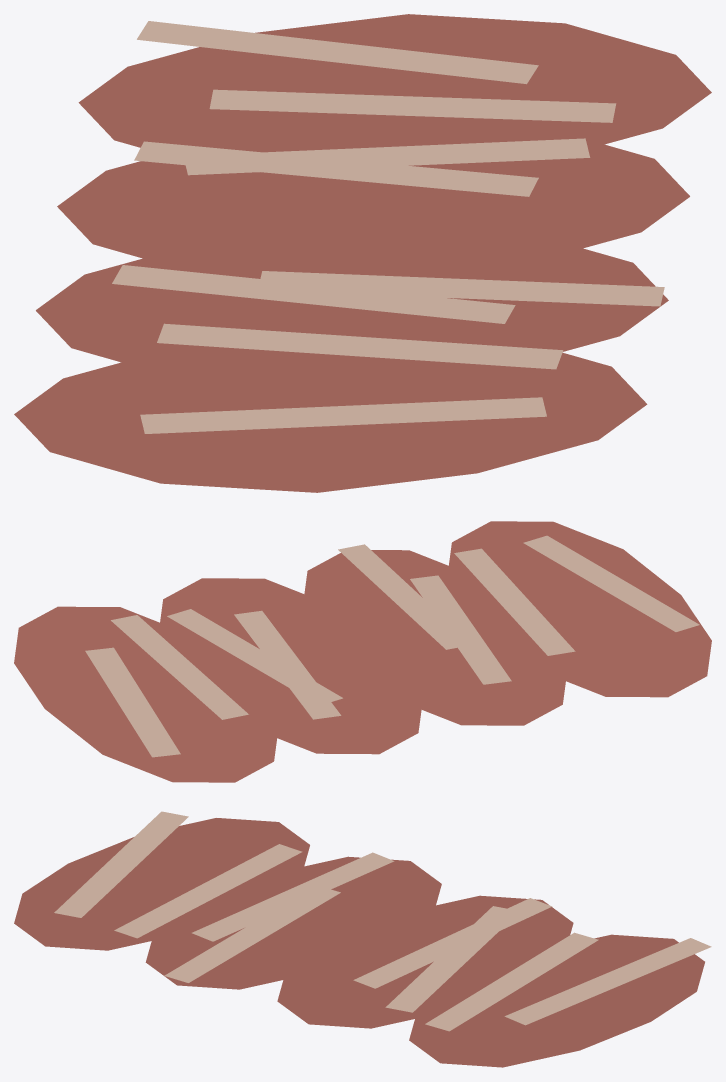
The model's file is FOOD_pho_beef_slice.glb.
3 views of the same model, one above another, from view 1: azimuth 30°, elevation 25°; view 2: azimuth 150°, elevation 25°; view 3: azimuth 270°, elevation 25° (orthographic). The views are drawn at different scales.
Visible parts, largest first — view 1: BeefLayer; view 2: BeefLayer; view 3: BeefLayer.
Part boxes in pixels (x1,y1,x2,y2): BeefLayer: (14, 14, 711, 492); BeefLayer: (14, 521, 711, 782); BeefLayer: (14, 811, 711, 1067).
Size of the model in its own units: 0.1692 by 0.00699 by 0.1855.
